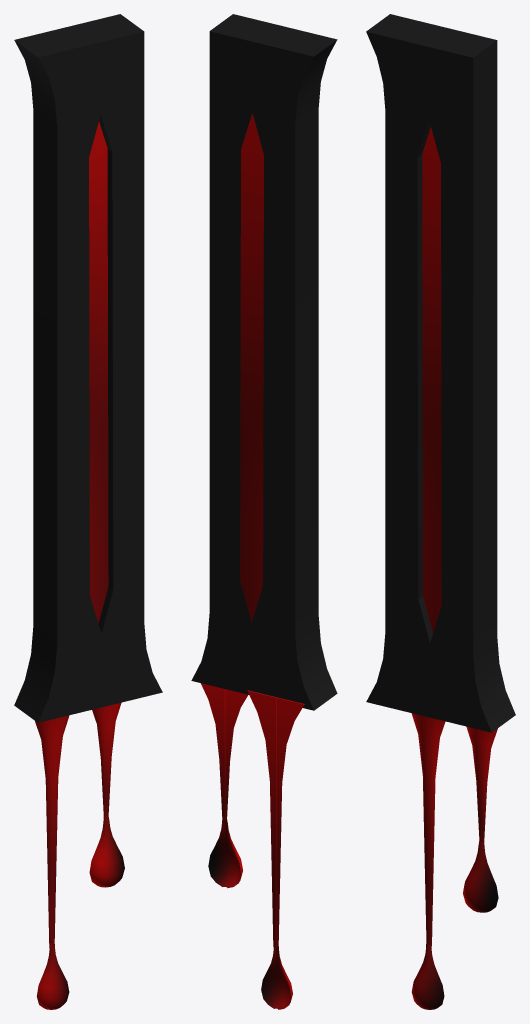
The picture shows the model from 3 angles, left to right: view 1: azimuth 30°, elevation 25°; view 2: azimuth 150°, elevation 25°; view 3: azimuth 330°, elevation 25°; orthographic projection. The views are drawn at different scales.
Visible parts, largest first — view 1: 1, 1_Element, Blood_394, Blood_385; view 2: 1, 1_Element, Blood_394, Blood_385; view 3: 1, 1_Element, Blood_394, Blood_385.
Boxes of the visible parts, <box> form: 1: <box>14,14,162,722</box>; 1_Element: <box>89,121,108,623</box>; Blood_394: <box>35,715,69,1009</box>; Blood_385: <box>89,702,124,887</box>; 1: <box>191,14,337,710</box>; 1_Element: <box>240,113,263,622</box>; Blood_394: <box>247,690,304,1009</box>; Blood_385: <box>200,683,248,888</box>; 1: <box>366,14,515,732</box>; 1_Element: <box>422,127,441,632</box>; Blood_394: <box>411,713,445,1009</box>; Blood_385: <box>463,726,498,912</box>.
Bounding box in the file's own units: 15.06 × 113 × 5.16.
Materials: 2 (1 with a texture image).
